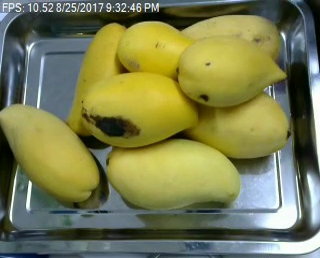Mango: (0, 105, 99, 201), (107, 139, 240, 210), (82, 72, 198, 147), (179, 37, 287, 107), (67, 22, 131, 134), (183, 90, 288, 157), (175, 15, 279, 76), (117, 19, 197, 80)
